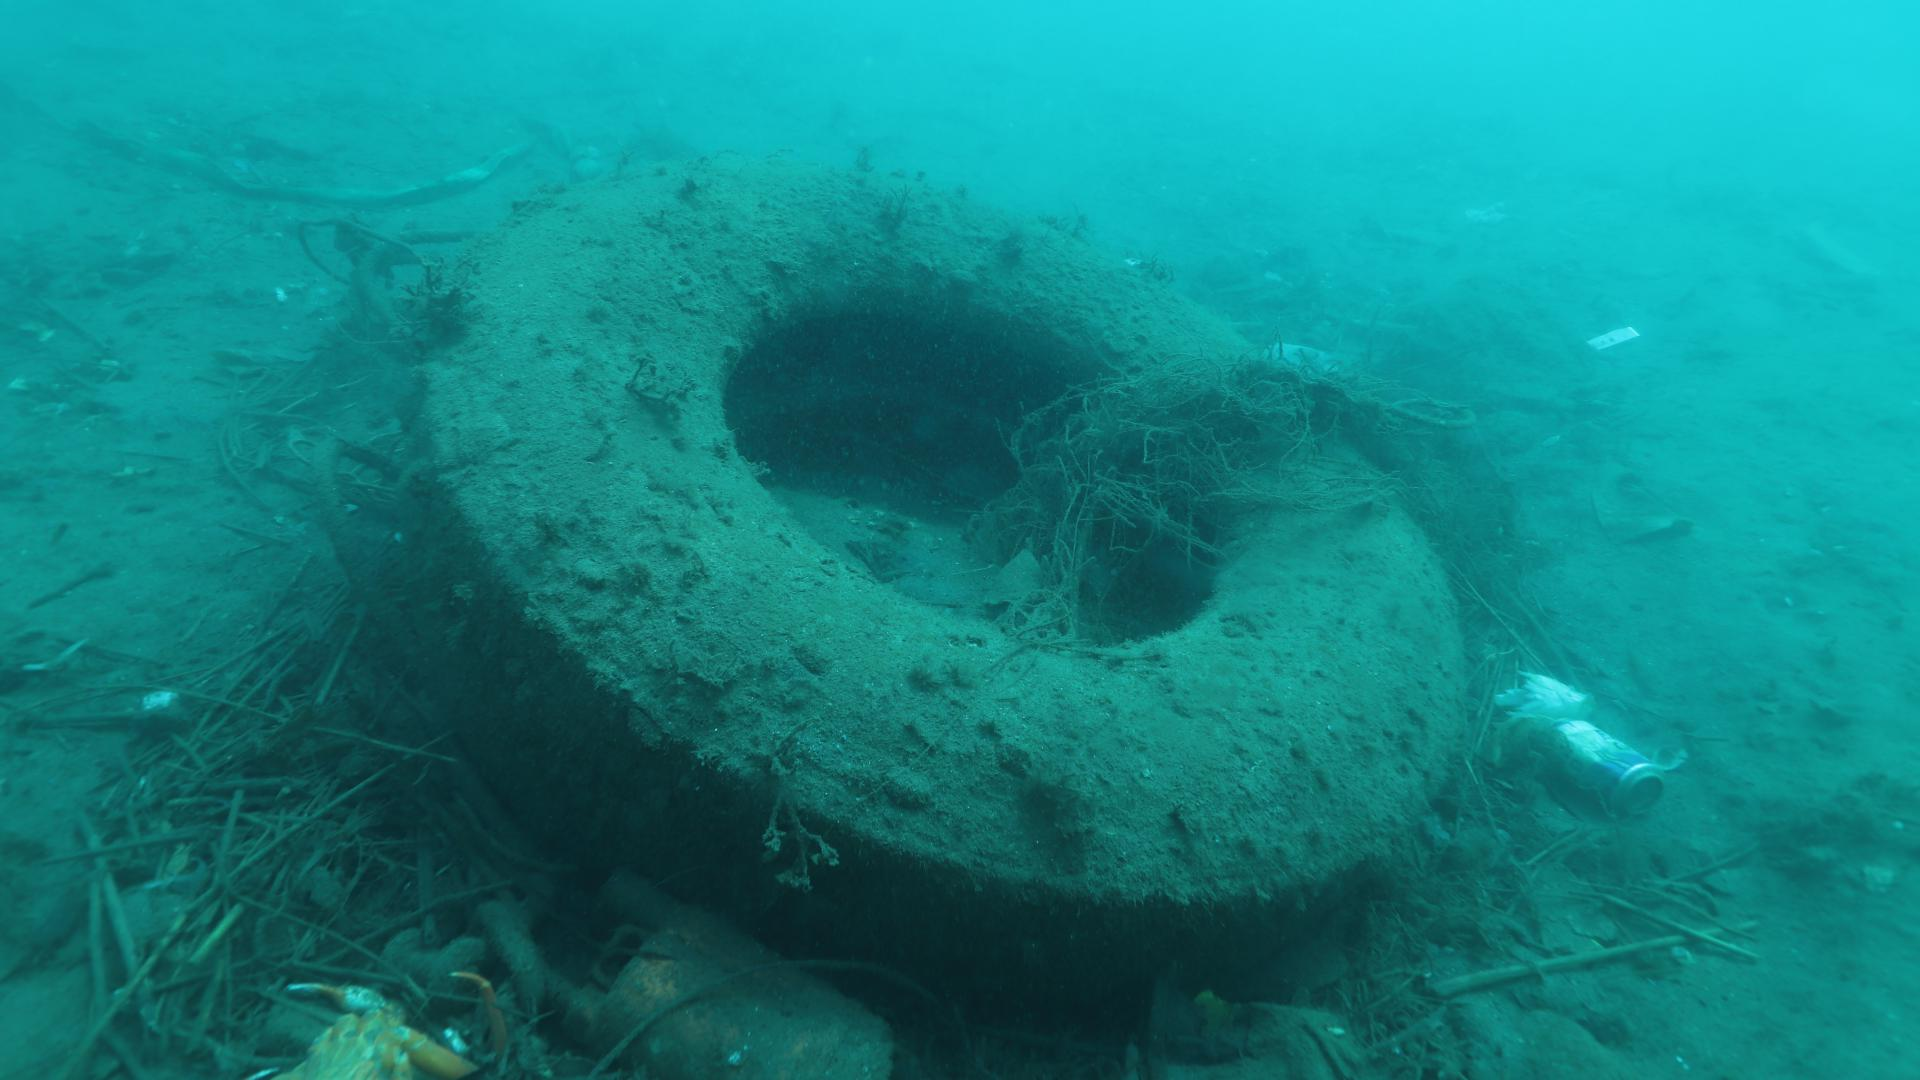tire: (396, 153, 1465, 1040)
